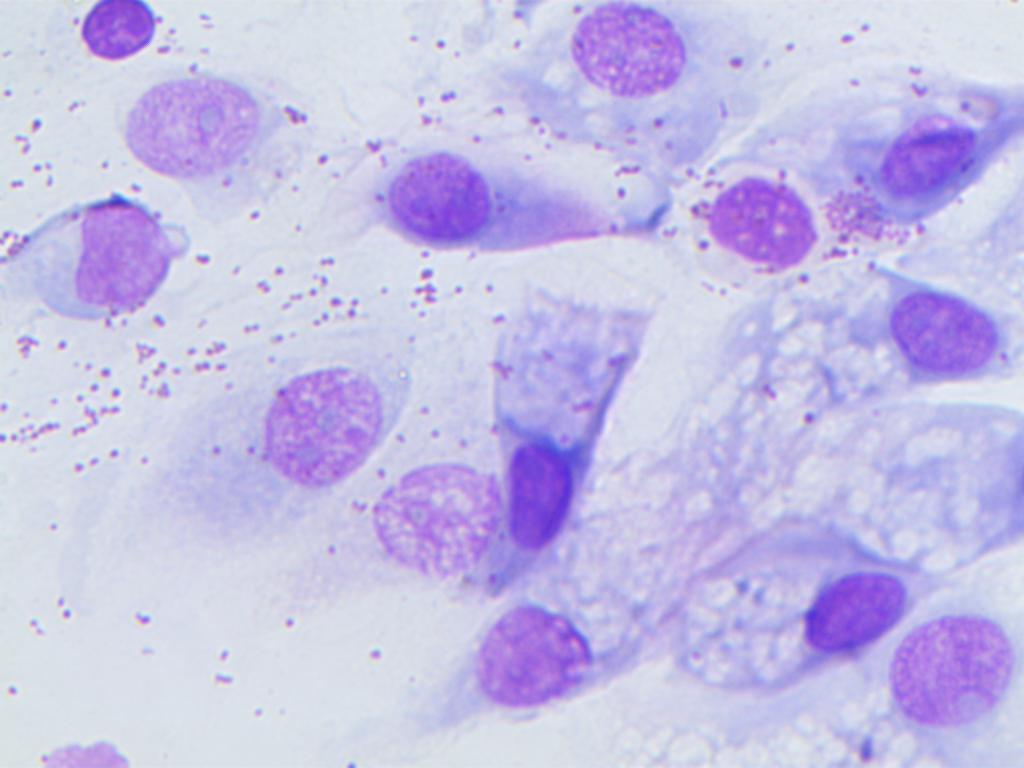epithelial: (104, 59, 303, 181), (248, 370, 399, 482), (360, 455, 494, 576), (889, 611, 1023, 732), (552, 0, 690, 104)
goblet_cell: (496, 297, 643, 579), (470, 547, 673, 712), (372, 133, 621, 258), (688, 523, 910, 653), (809, 78, 1016, 212), (842, 275, 1011, 401)
lymphocyte: (7, 198, 179, 336), (63, 0, 161, 77)
mast_cell: (683, 168, 830, 282)
